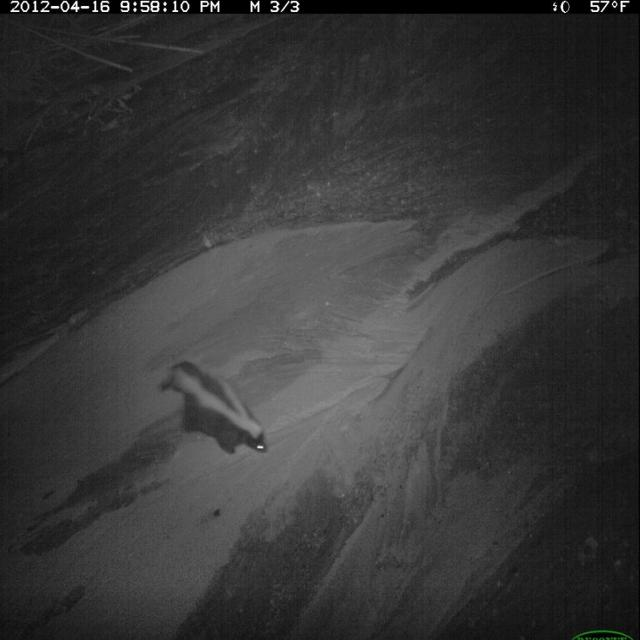skunk: (159, 356, 271, 461)
